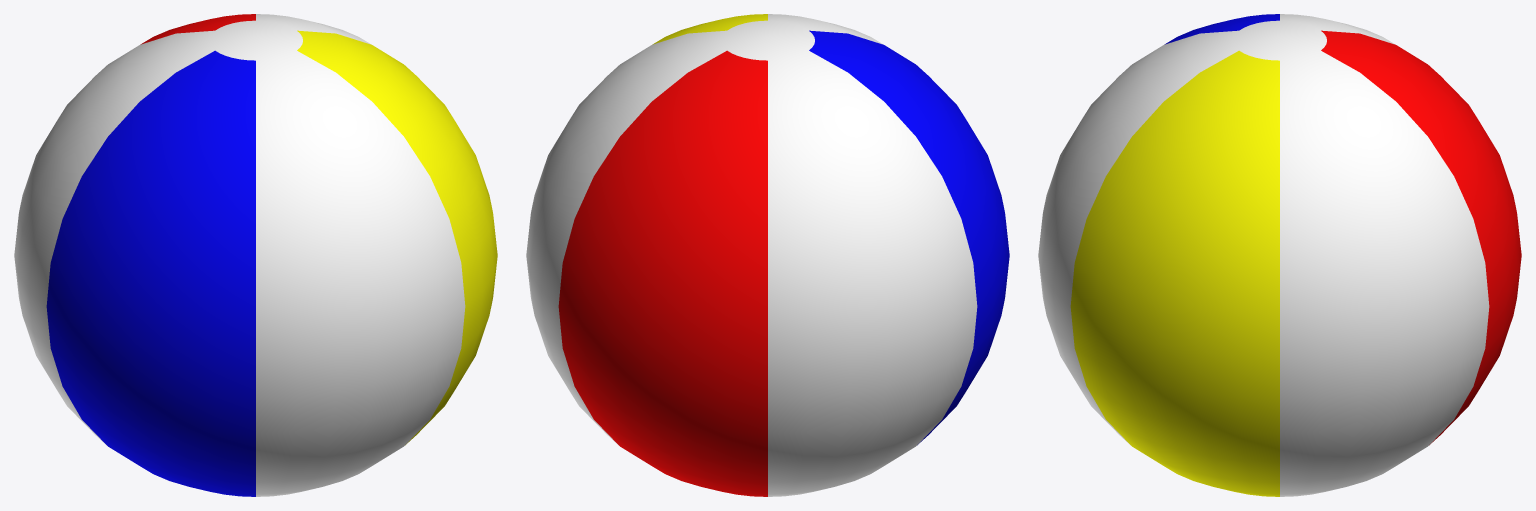
Rendered from beachball.glb.
3 renders of one model, left to right at view 1: azimuth 30°, elevation 25°; view 2: azimuth 150°, elevation 25°; view 3: azimuth 270°, elevation 25°, orthographic.
Parts seen in each view (by area): view 1: beachball; view 2: beachball; view 3: beachball.
Part boxes in pixels (x1,y1,x2,y2): beachball: [14, 14, 497, 496]; beachball: [526, 14, 1009, 496]; beachball: [1038, 14, 1521, 496].
Size of the model in its own units: 2 by 2 by 2.
